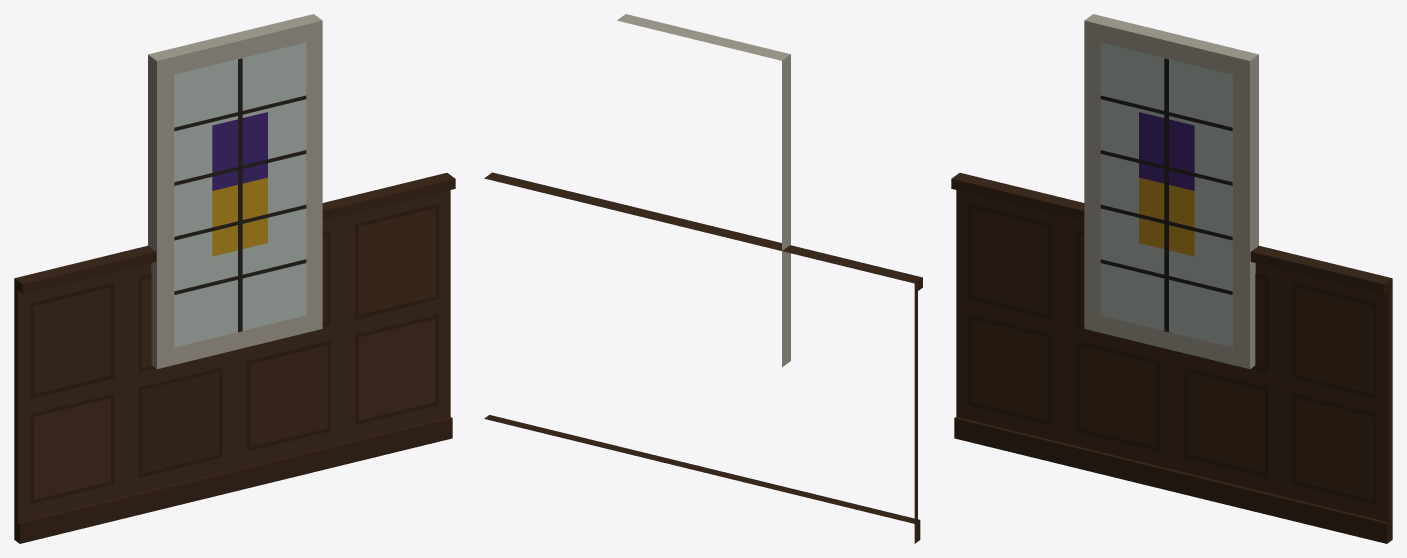
The model's file is wall.panel_window.window.glb.
3 views of the same model, side by side, from view 1: azimuth 30°, elevation 25°; view 2: azimuth 150°, elevation 25°; view 3: azimuth 330°, elevation 25° (orthographic).
Visible parts, largest first — view 1: wall_panel_window_window; view 2: wall_panel_window_window; view 3: wall_panel_window_window.
Part boxes in pixels (left/top/right/bottom): wall_panel_window_window: left=14, top=14, right=455, bottom=543; wall_panel_window_window: left=484, top=14, right=922, bottom=543; wall_panel_window_window: left=951, top=14, right=1392, bottom=543.
Size of what is drawn, in the model's own units: 3.6 by 3.6 by 0.137.
